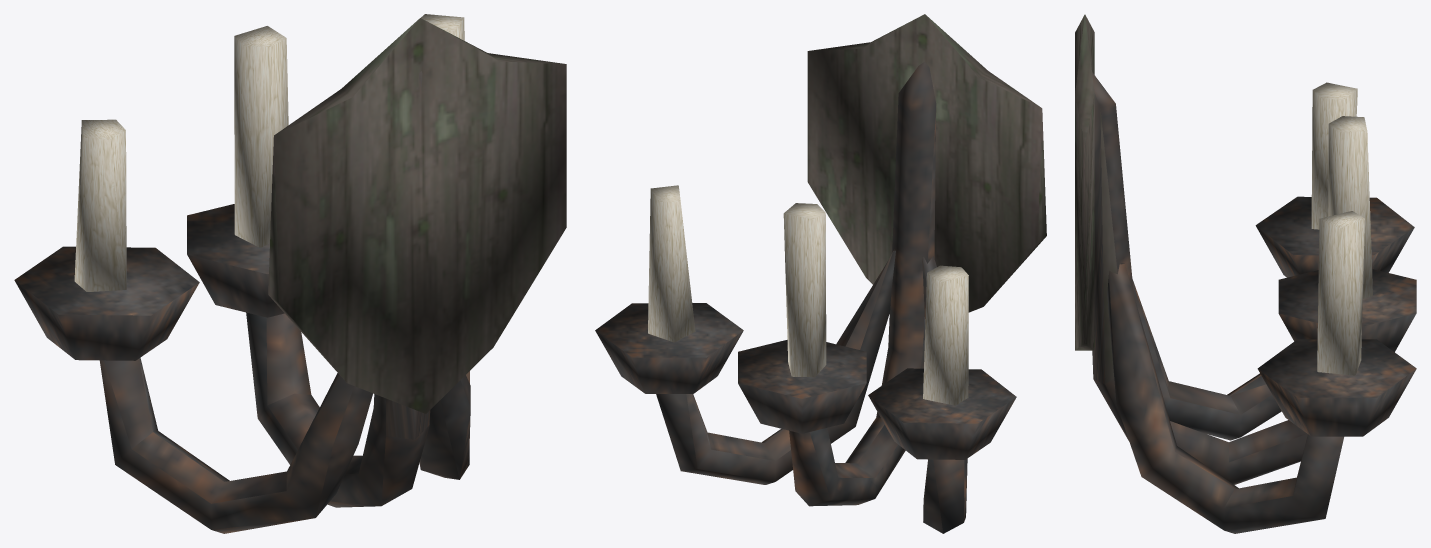
File: sconce.glb
3 renders of one model, left to right at view 1: azimuth 30°, elevation 25°; view 2: azimuth 150°, elevation 25°; view 3: azimuth 270°, elevation 25°, orthographic. The views are drawn at different scales.
Parts seen in each view (by area): view 1: WallSconce; view 2: WallSconce; view 3: WallSconce.
Boxes of the visible parts, x1=… form: WallSconce: x1=14, y1=14, x2=566, y2=533; WallSconce: x1=595, y1=14, x2=1046, y2=533; WallSconce: x1=1075, y1=14, x2=1416, y2=533.
Size of the model in its own units: 0.4695 by 0.5154 by 0.3373.
3 materials, 3 textured.
